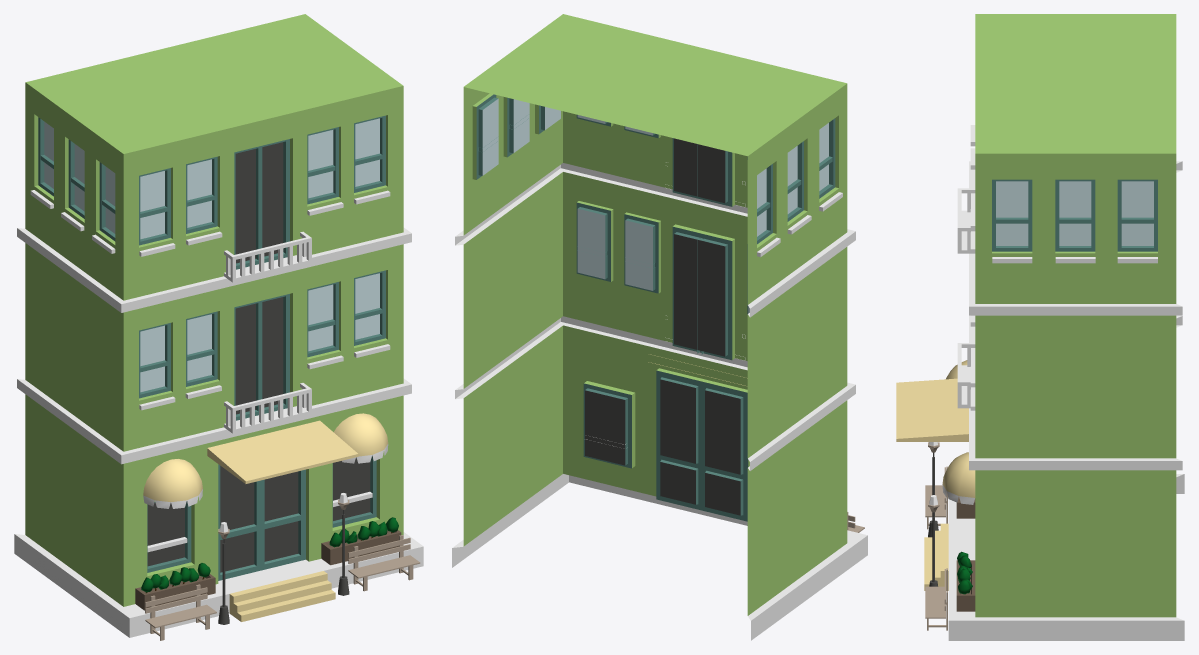
The model's file is building_1.fbx.
3 renders of one model, left to right at view 1: azimuth 30°, elevation 25°; view 2: azimuth 150°, elevation 25°; view 3: azimuth 270°, elevation 25°, orthographic. The views are drawn at different scales.
Parts seen in each view (by area): view 1: building_1; view 2: building_1; view 3: building_1.
Boxes of the visible parts, box(x1,y1,x2,y2) form: building_1: box(14, 14, 423, 640); building_1: box(452, 14, 867, 640); building_1: box(896, 14, 1184, 640).
Bounding box in the file's own units: 630 × 968 × 523.
Materials: 1 (1 with a texture image).
